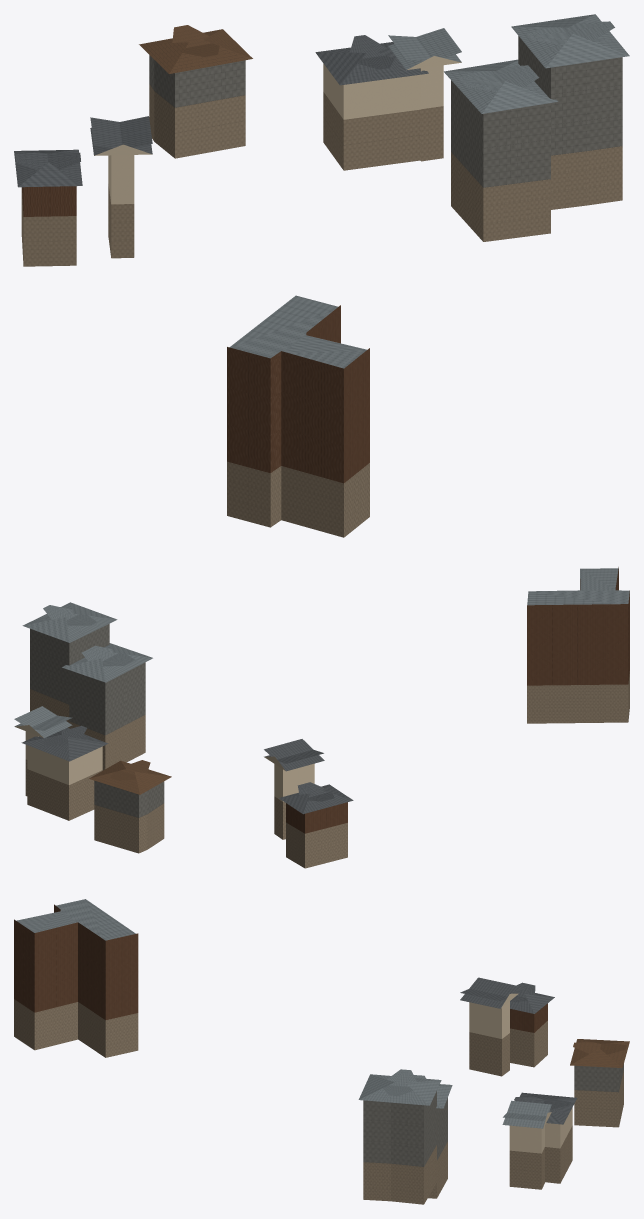
Rendered from bld_c22_45_389.gltf.
3 views of the same model, one above another, from view 1: azimuth 30°, elevation 25°; view 2: azimuth 150°, elevation 25°; view 3: azimuth 270°, elevation 25° (orthographic). The views are drawn at different scales.
Visible parts, largest first — view 1: bld_c22_45_389; view 2: bld_c22_45_389; view 3: bld_c22_45_389.
Boxes of the visible parts, x1,y1,x2,y2 form: bld_c22_45_389: (14, 14, 629, 537); bld_c22_45_389: (14, 567, 629, 868); bld_c22_45_389: (14, 899, 629, 1204).
Bounding box in the file's own units: 60.62 × 16.9 × 75.62.
Materials: 9 (9 with a texture image).
